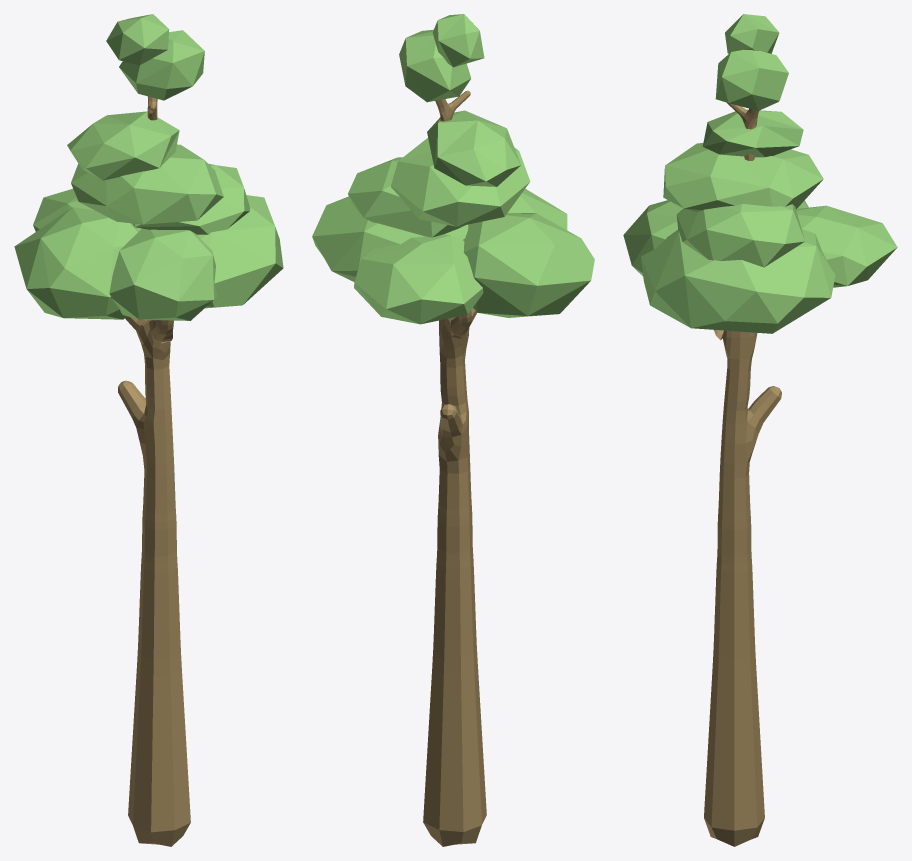
File: Tree2.fbx
3 views of the same model, side by side, from view 1: azimuth 30°, elevation 25°; view 2: azimuth 150°, elevation 25°; view 3: azimuth 270°, elevation 25° (orthographic).
Parts seen in each view (by area): view 1: Cube.000, Trunk; view 2: Cube.000, Trunk; view 3: Cube.000, Trunk.
Part boxes in pixels (x1,y1,x2,y2): Cube.000: [14, 14, 283, 320]; Trunk: [118, 96, 190, 846]; Cube.000: [312, 14, 594, 324]; Trunk: [423, 90, 486, 846]; Cube.000: [623, 14, 897, 333]; Trunk: [704, 103, 781, 846].
Size of the model in its own units: 692 by 2189 by 662.
